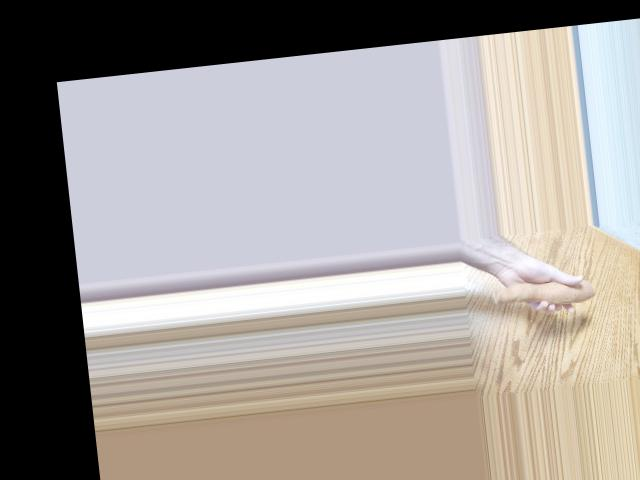sweet_potato: (486, 262, 604, 315)
